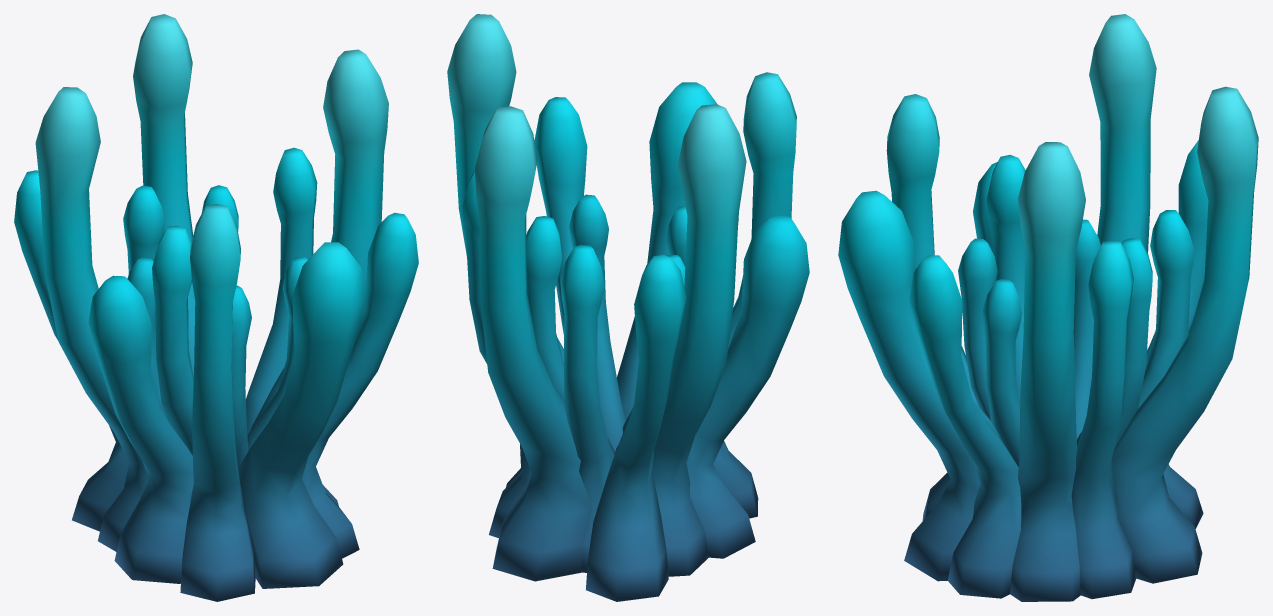
The model's file is Blue_Coral_01.fbx.
3 renders of one model, left to right at view 1: azimuth 30°, elevation 25°; view 2: azimuth 150°, elevation 25°; view 3: azimuth 270°, elevation 25°, orthographic. The views are drawn at different scales.
Parts seen in each view (by area): view 1: Blue_Coral_01; view 2: Blue_Coral_01; view 3: Blue_Coral_01.
Part boxes in pixels (x1=…): Blue_Coral_01: x1=14, y1=14, x2=418, y2=601; Blue_Coral_01: x1=447, y1=14, x2=809, y2=601; Blue_Coral_01: x1=838, y1=14, x2=1258, y2=601.
Size of the model in its own units: 111 by 155 by 126.
